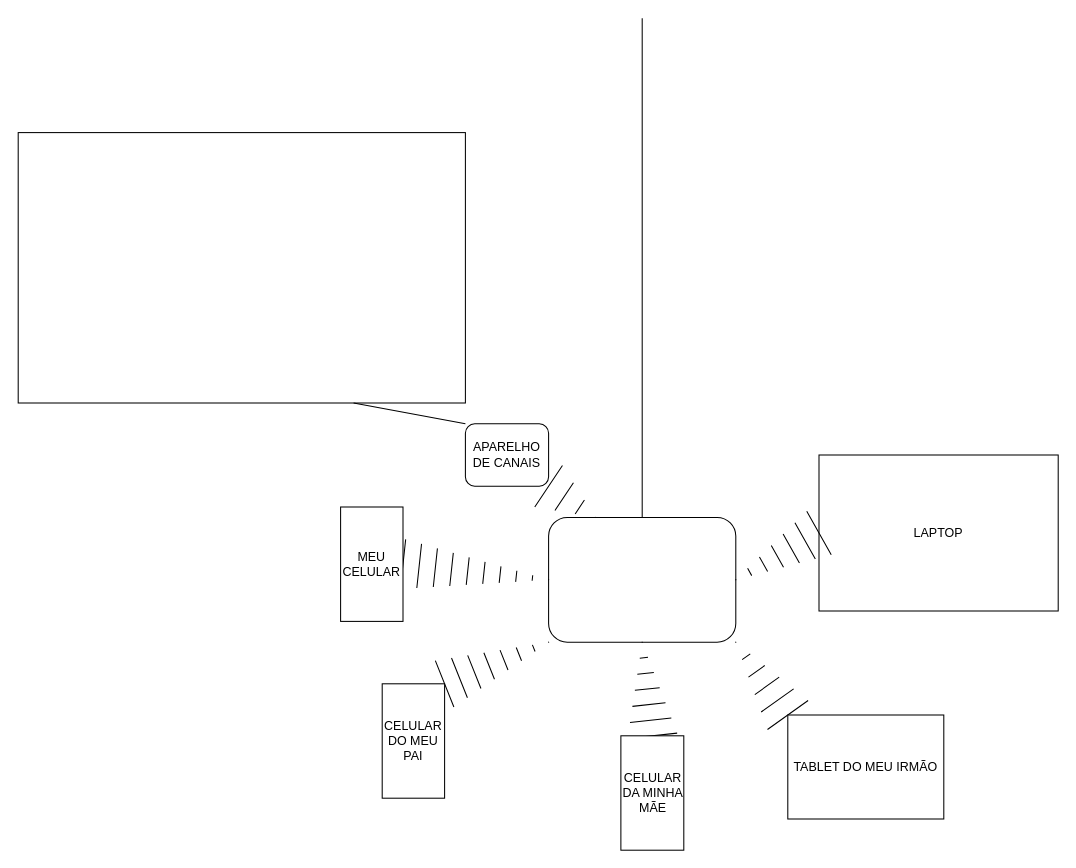
The diagram is 1076 pixels wide and 868 high, and some of its shapes have lost their labels. Here are the shapes that lost their labels. From the top down, the box of each, then its label:
(17, 132, 465, 403): TV
(548, 516, 736, 642): ROTEADOR/MODEM
